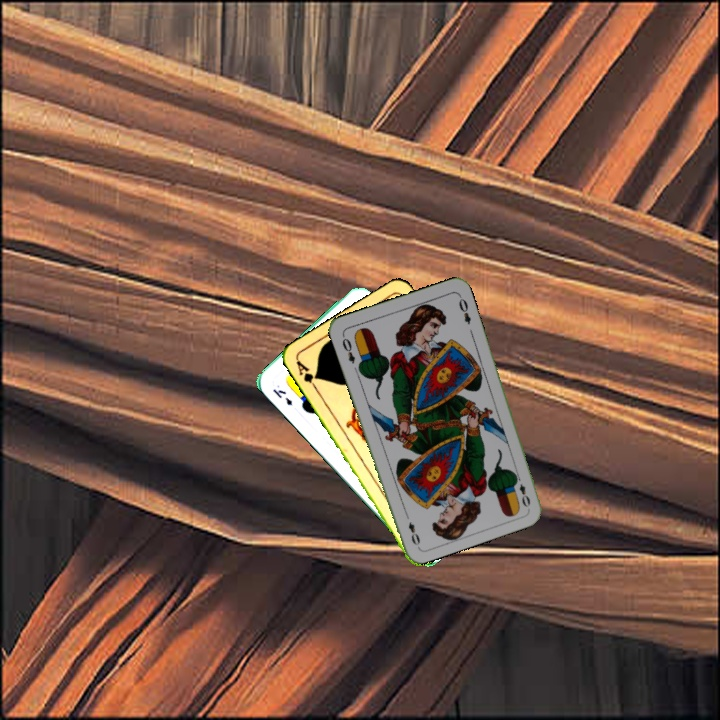EK: (269, 385, 295, 408)
EO: (511, 471, 533, 510), (338, 331, 358, 366)
GA: (292, 356, 321, 393)
